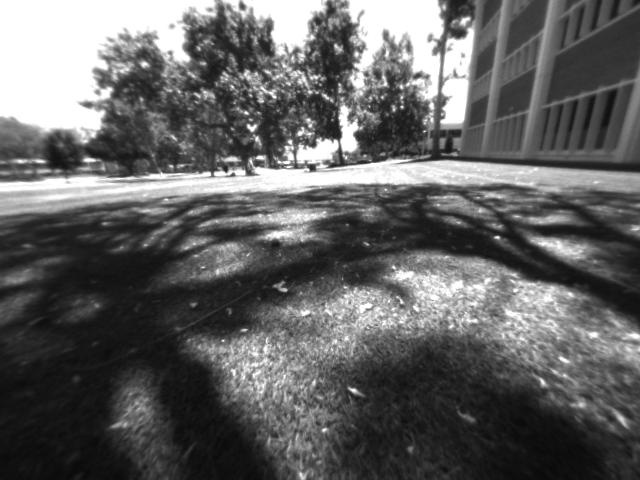dogtoy: (263, 233, 291, 253)
